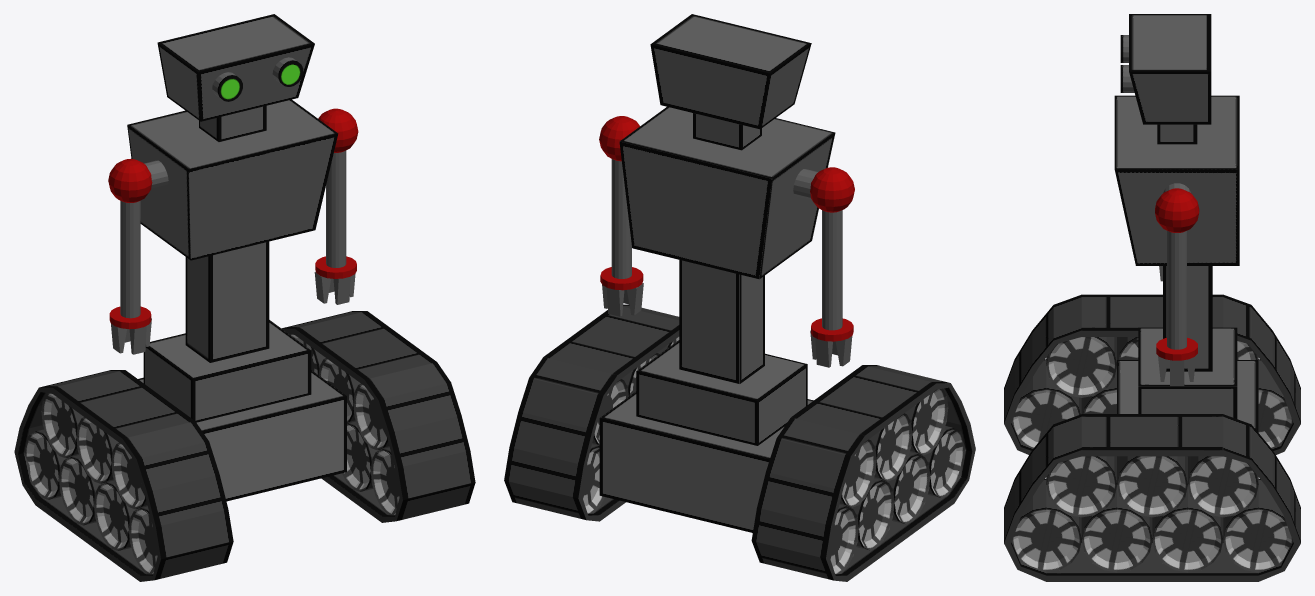
The model's file is npc-robot.glb.
3 renders of one model, left to right at view 1: azimuth 30°, elevation 25°; view 2: azimuth 150°, elevation 25°; view 3: azimuth 270°, elevation 25°, orthographic. The views are drawn at different scales.
Visible parts, largest first — view 1: Cube, Cube.001, Cube.002, Cylinder, Cylinder.002, Cylinder.005, Cylinder.006, Cylinder.001, Cylinder.015, Cylinder.013, Cylinder.004, Cylinder.014 (+2 smaller); view 2: Cube, Cube.001, Cube.002, Cylinder.002, Cylinder, Cylinder.003, Cylinder.005, Cylinder.004, Cylinder.006, Cylinder.001, Cylinder.016, Cylinder.011; view 3: Cube, Cube.002, Cube.001, Cylinder.014, Cylinder.016, Cylinder.017, Cylinder.015, Cylinder.012, Cylinder.013, Cylinder.011, Cylinder.004, Cylinder.003 (+3 smaller).
Boxes of the visible parts, x1,y1,x2,y2 form: Cube: [108, 14, 358, 501]; Cube.001: [14, 370, 233, 581]; Cube.002: [281, 311, 475, 522]; Cylinder: [59, 455, 103, 525]; Cylinder.002: [93, 480, 138, 550]; Cylinder.005: [76, 417, 118, 483]; Cylinder.006: [41, 393, 83, 458]; Cylinder.001: [24, 429, 68, 499]; Cylinder.015: [342, 421, 379, 491]; Cylinder.013: [353, 383, 389, 450]; Cylinder.004: [111, 443, 147, 509]; Cylinder.014: [370, 447, 399, 514]; Cube: [599, 14, 854, 532]; Cube.001: [751, 365, 975, 581]; Cube.002: [504, 304, 679, 521]; Cylinder.002: [885, 452, 930, 524]; Cylinder: [849, 478, 894, 550]; Cylinder.003: [920, 426, 965, 497]; Cylinder.005: [869, 413, 912, 481]; Cylinder.004: [905, 388, 948, 455]; Cylinder.006: [839, 439, 876, 507]; Cylinder.001: [829, 504, 858, 573]; Cylinder.016: [582, 444, 604, 513]; Cylinder.011: [592, 379, 628, 445]; Cube: [1114, 14, 1258, 432]; Cube.002: [1004, 414, 1300, 581]; Cube.001: [1004, 294, 1300, 454]; Cylinder.014: [1012, 478, 1081, 572]; Cylinder.016: [1223, 478, 1292, 572]; Cylinder.017: [1152, 486, 1223, 572]; Cylinder.015: [1081, 486, 1152, 572]; Cylinder.012: [1117, 456, 1187, 517]; Cylinder.013: [1046, 456, 1116, 517]; Cylinder.011: [1188, 456, 1258, 517]; Cylinder.004: [1046, 337, 1116, 397]; Cylinder.003: [1011, 359, 1081, 447].
Size of the model in its own units: 520 by 720 by 420.
4 materials, 4 textured.
